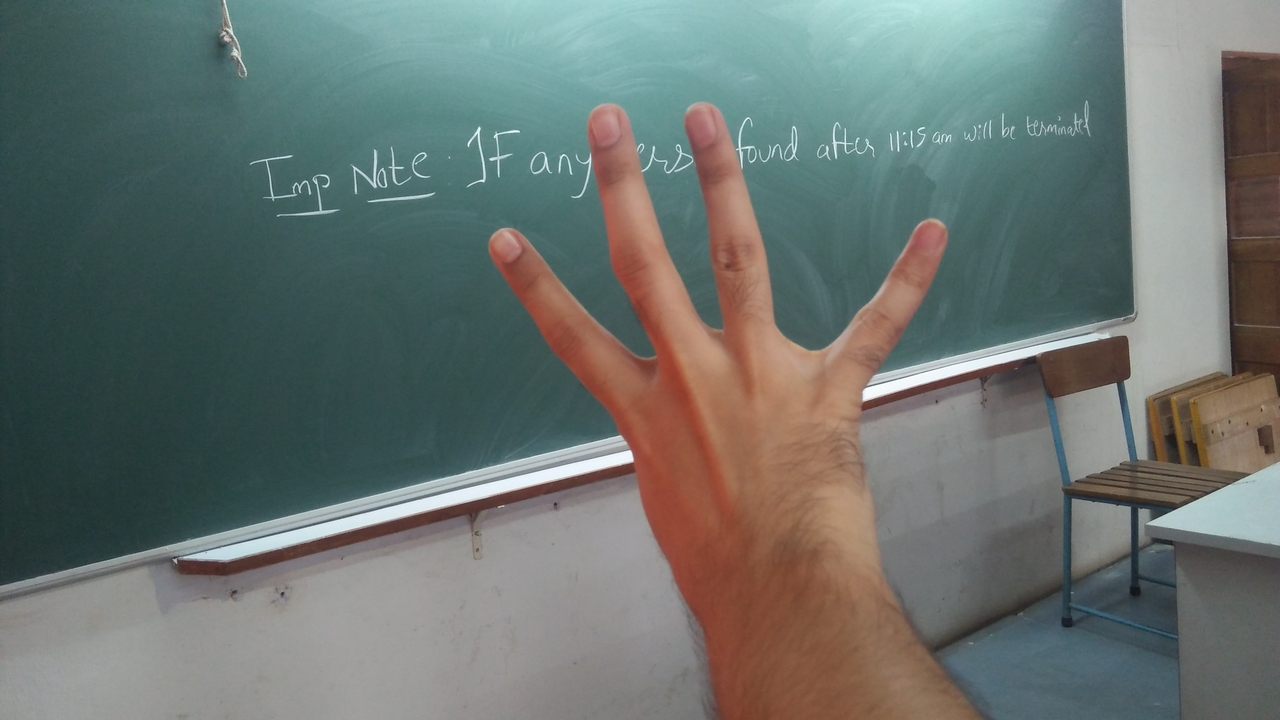fingertip: (480, 216, 540, 274), (678, 94, 736, 152), (580, 96, 640, 152), (900, 206, 960, 260)
